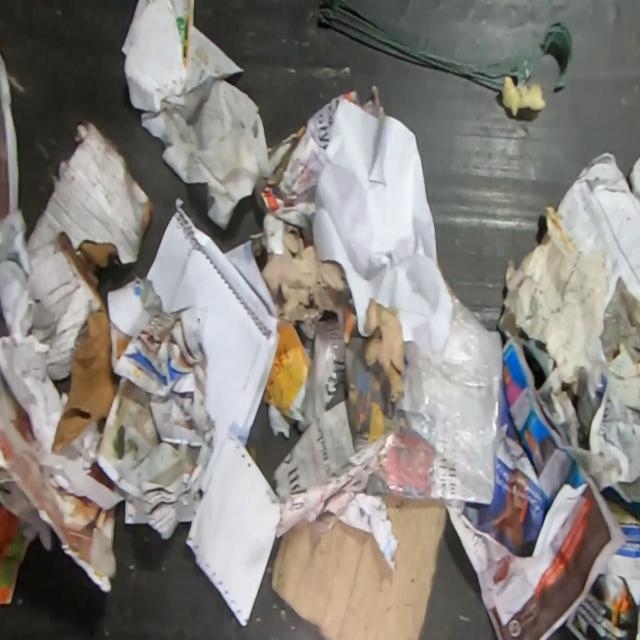cardboard: (22, 120, 157, 454), (270, 492, 447, 640)
rigid_plastic: (316, 0, 575, 93)
soft_plastic: (365, 285, 503, 506)
